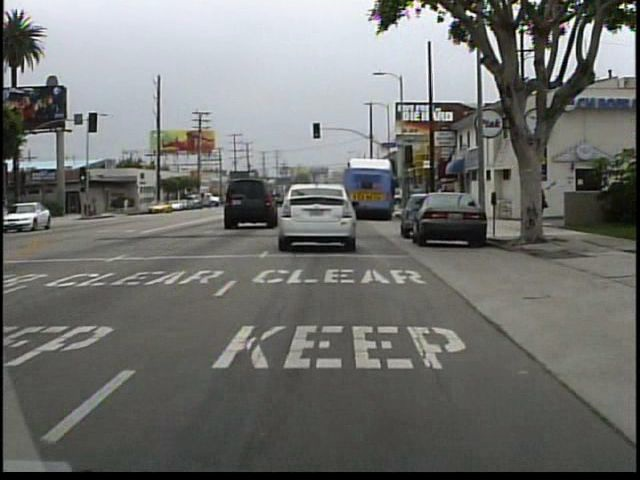person: (519, 175, 539, 230), (530, 177, 547, 232), (122, 196, 133, 215)
